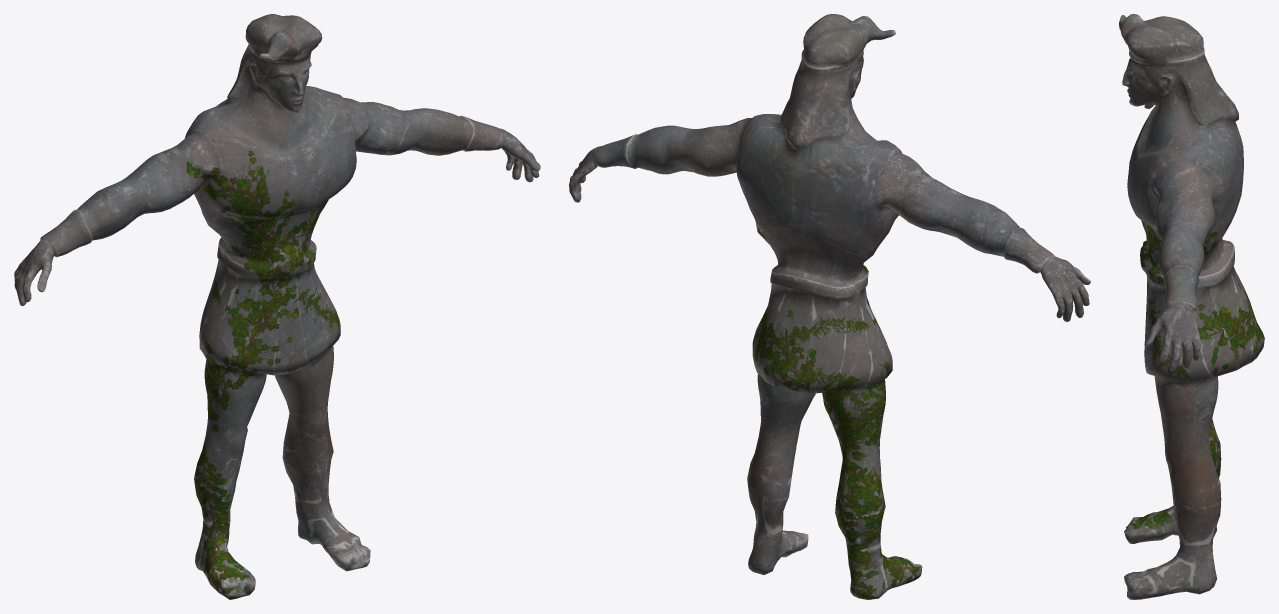
File: Hercules.obj
The picture shows the model from 3 angles, left to right: view 1: azimuth 30°, elevation 25°; view 2: azimuth 150°, elevation 25°; view 3: azimuth 270°, elevation 25°; orthographic projection.
Parts seen in each view (by area): view 1: Plane; view 2: Plane; view 3: Plane.
Boxes of the visible parts, box(x1,y1,x2,y2) form: Plane: box(14, 14, 540, 599); Plane: box(569, 14, 1090, 599); Plane: box(1119, 14, 1264, 599).
Size of the model in its own units: 1.94 by 2 by 0.4837.
1 material, 1 textured.
